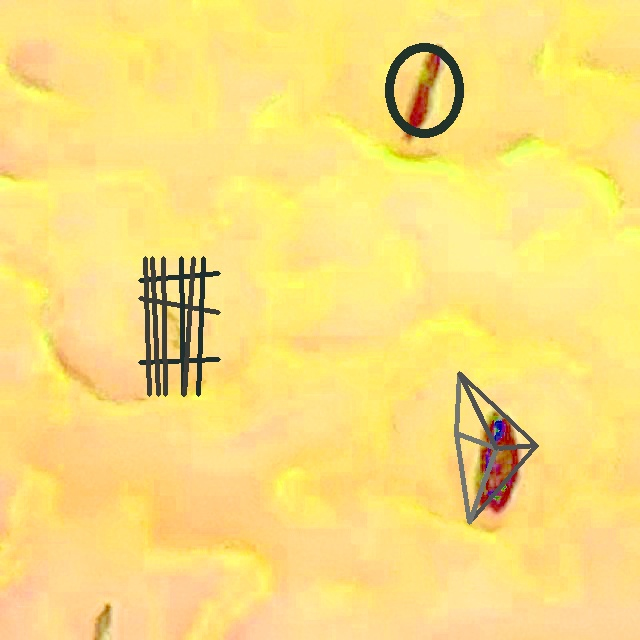close: (139, 256, 219, 395)
open: (454, 371, 538, 524), (384, 42, 464, 138)
